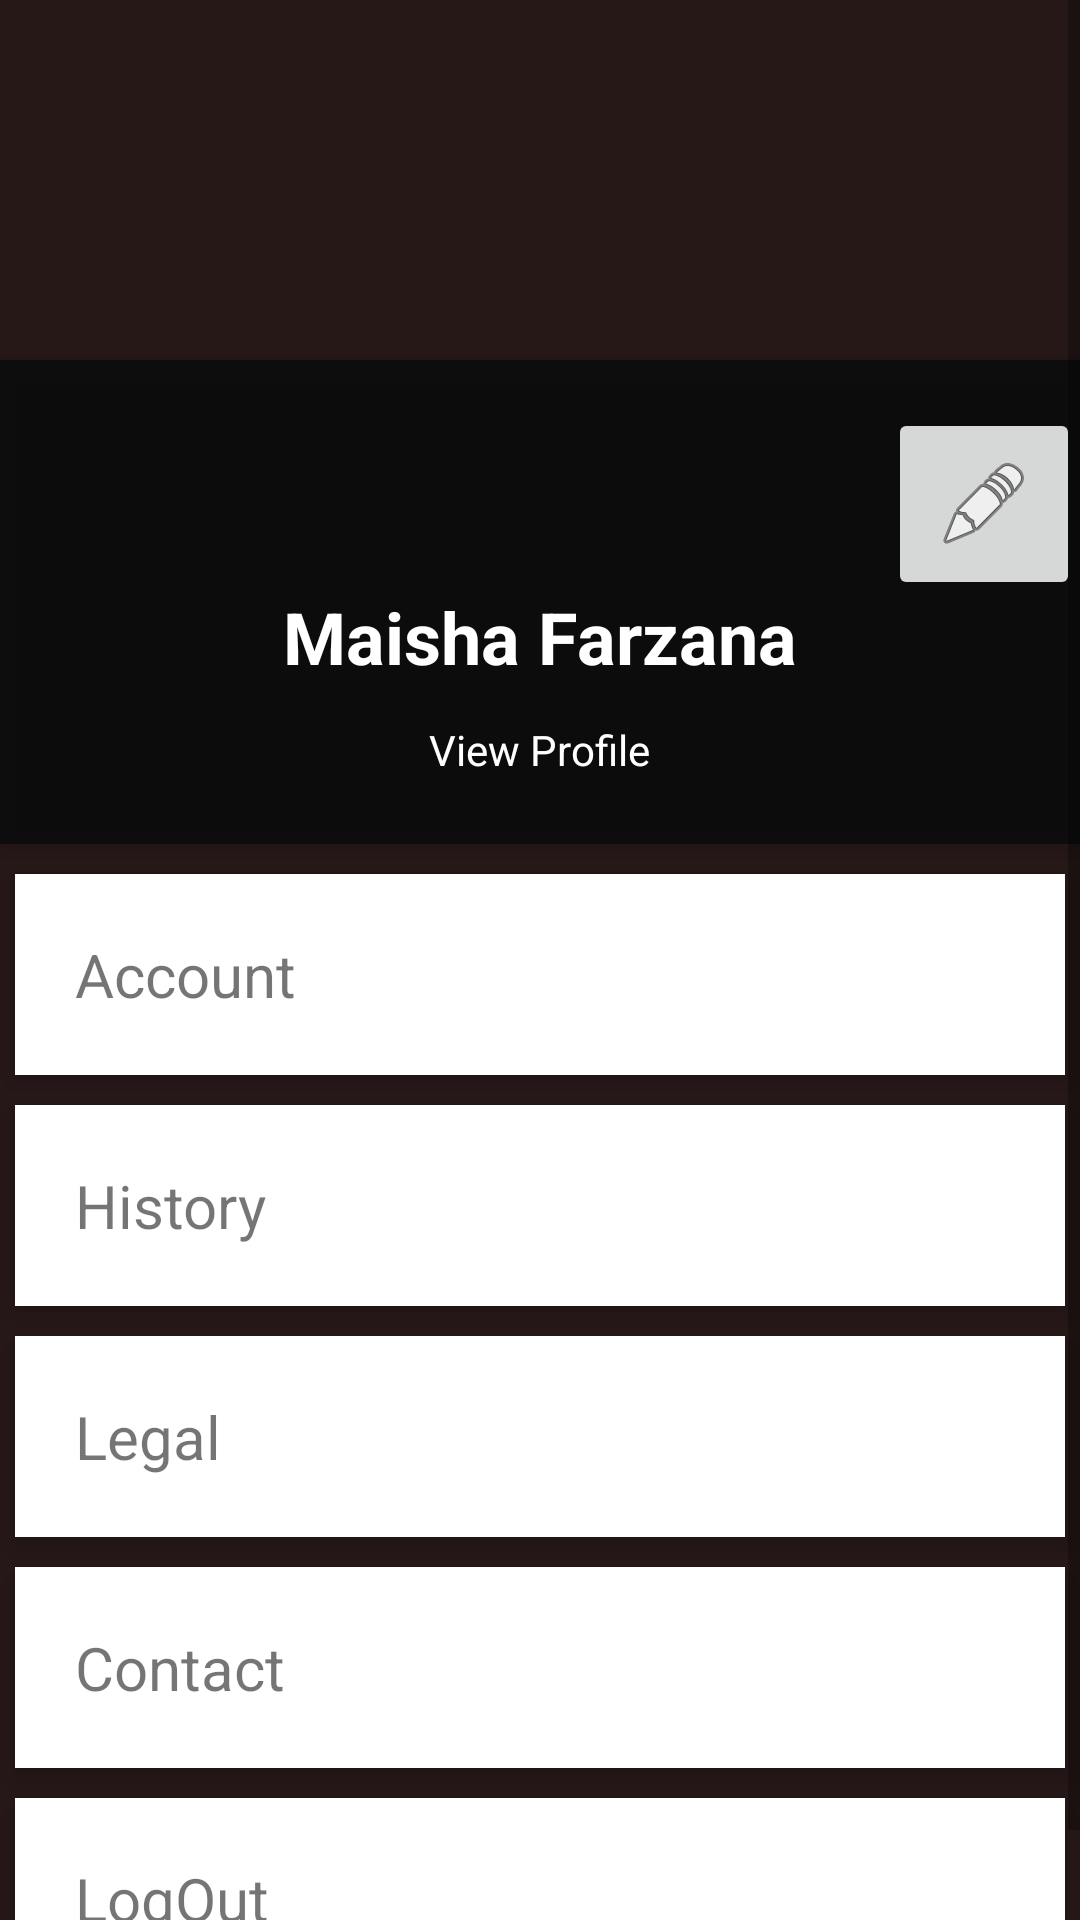

Icon bounding boxes for this 1080x1920 phone screenshot, format detection(x1, y1, x2, y2):
edit: detection(900, 426, 1068, 582)
